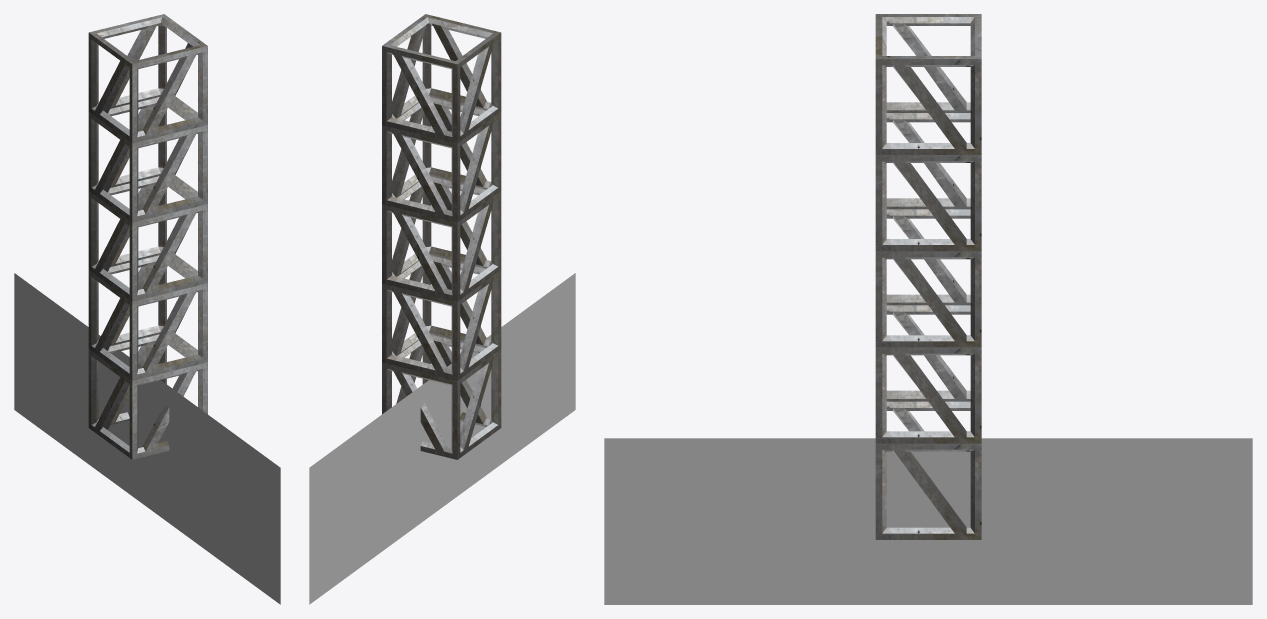
The model's file is GenericFinishLine.fbx.
3 views of the same model, side by side, from view 1: azimuth 30°, elevation 25°; view 2: azimuth 150°, elevation 25°; view 3: azimuth 270°, elevation 25° (orthographic). The views are drawn at different scales.
Visible parts, largest first — view 1: FinishLineBeam, GenericFinishLinePlane; view 2: FinishLineBeam, GenericFinishLinePlane; view 3: GenericFinishLinePlane, FinishLineBeam.
Boxes of the visible parts, bbox=[...] form: FinishLineBeam: bbox=[88, 14, 207, 459]; GenericFinishLinePlane: bbox=[14, 273, 280, 604]; FinishLineBeam: bbox=[382, 14, 501, 459]; GenericFinishLinePlane: bbox=[309, 273, 575, 604]; GenericFinishLinePlane: bbox=[604, 438, 1252, 604]; FinishLineBeam: bbox=[875, 14, 981, 539].
Bounding box in the file's own units: 1659 × 9816 × 10134.
